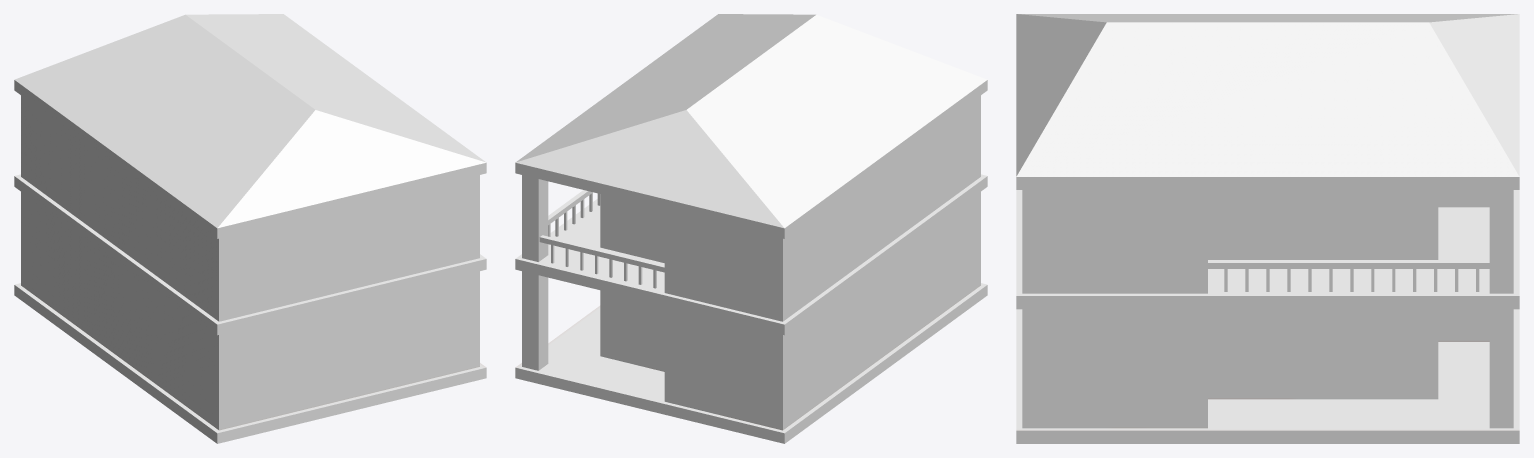
File: Plain_Building_Residential_L3_03_Mod.fbx
3 renders of one model, left to right at view 1: azimuth 30°, elevation 25°; view 2: azimuth 150°, elevation 25°; view 3: azimuth 270°, elevation 25°, orthographic. The views are drawn at different scales.
Visible parts, largest first — view 1: Plain_Building_Residential_L3_03_Mod; view 2: Plain_Building_Residential_L3_03_Mod; view 3: Plain_Building_Residential_L3_03_Mod.
Part boxes in pixels (<box>): Plain_Building_Residential_L3_03_Mod: <box>14,14,486,443</box>; Plain_Building_Residential_L3_03_Mod: <box>515,14,987,443</box>; Plain_Building_Residential_L3_03_Mod: <box>1016,14,1519,443</box>.
Bounding box in the file's own units: 919 × 895 × 1200.
